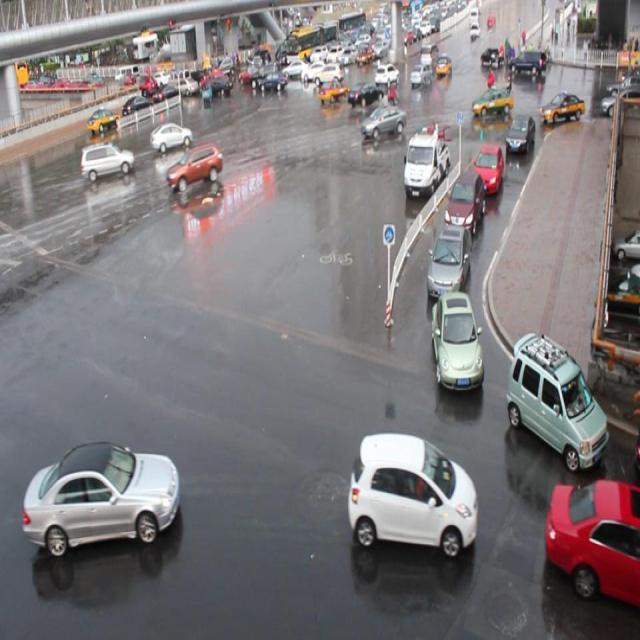bus: (402, 128, 448, 198)
car: (24, 438, 180, 550), (348, 431, 476, 556), (503, 327, 609, 472), (546, 478, 640, 610), (429, 288, 483, 390), (426, 223, 471, 298), (444, 169, 483, 236), (167, 145, 222, 186), (361, 104, 406, 139), (472, 142, 503, 192), (150, 120, 193, 152), (470, 86, 512, 118), (504, 112, 534, 155), (348, 83, 383, 107), (318, 78, 349, 101)
truck: (81, 142, 135, 177)
